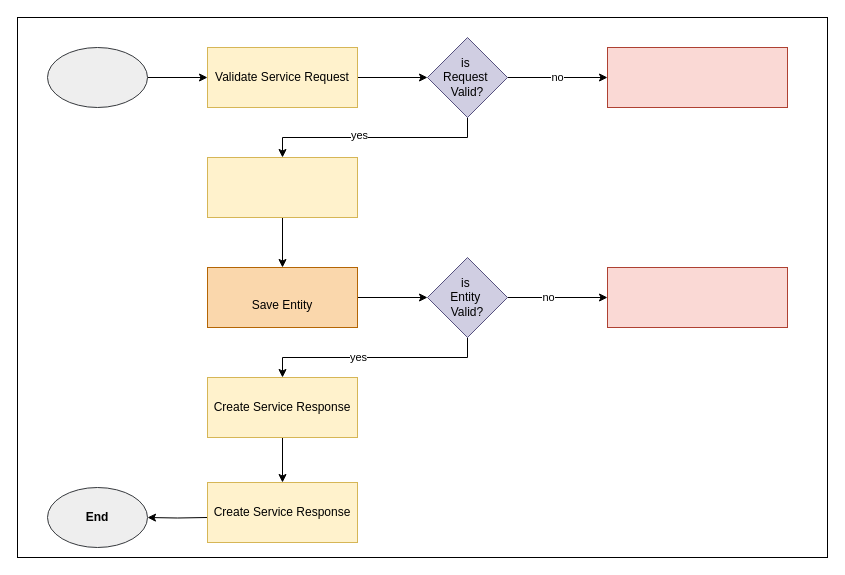
Some shapes in this 845 by 575 pixel diagram are drawn without their labels. Each missing label, with the centre of its shape:
Application Error Exception: the point at 697,297
Application Service Exception INVALID_REQUEST: the point at 697,77
Create Entity: the point at 282,187
Start: the point at 97,77
